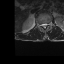CCS_normal: (43, 21, 45, 30)
LFS_stenosis: (47, 22, 49, 26)
LLS_normal: (45, 22, 47, 27)
RFS_normal: (39, 22, 41, 28)
RLS_normal: (41, 21, 43, 28)
